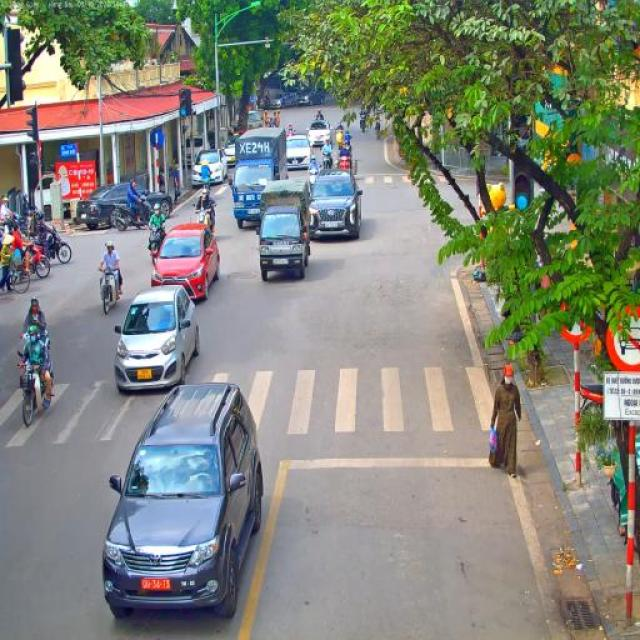car: (100, 380, 264, 622), (113, 285, 201, 393), (150, 222, 221, 302), (75, 181, 174, 230), (307, 168, 363, 238), (191, 149, 227, 186), (286, 134, 312, 172), (306, 119, 334, 147), (218, 135, 238, 169), (270, 91, 295, 109), (299, 92, 325, 106)
motorcycle: (16, 351, 55, 427), (110, 194, 152, 232), (13, 240, 52, 278), (36, 231, 72, 264), (98, 266, 122, 315), (17, 326, 51, 360), (145, 224, 167, 268), (194, 206, 216, 234), (4, 213, 28, 238), (307, 170, 321, 198), (338, 155, 352, 176), (334, 126, 344, 150), (203, 174, 214, 194), (322, 152, 333, 170), (359, 114, 367, 132), (342, 140, 352, 151), (375, 126, 380, 140)
truck: (41, 154, 150, 221), (229, 127, 289, 229), (258, 178, 311, 282), (234, 110, 264, 140)
